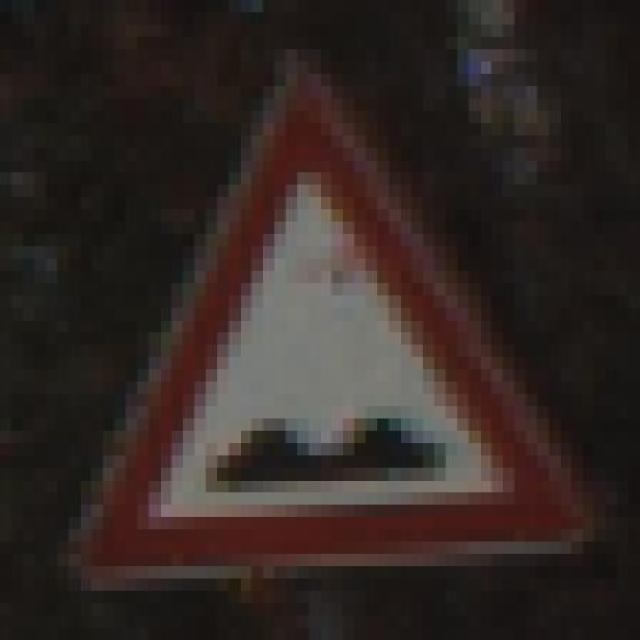Uneven Road: (57, 37, 606, 591)
